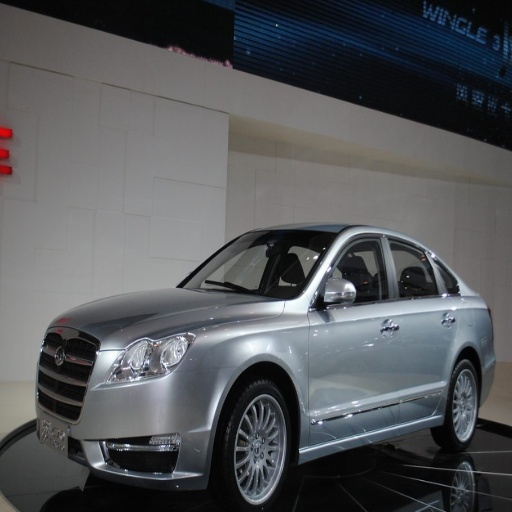front_bumper: (34, 325, 231, 491)
front_glass: (178, 235, 325, 299)
front_left_door: (311, 235, 401, 443)
